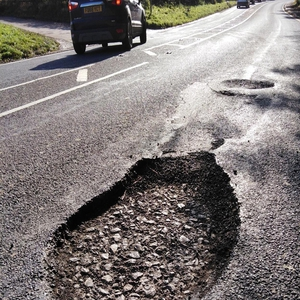pothole: (39, 148, 244, 300), (220, 79, 278, 92)
